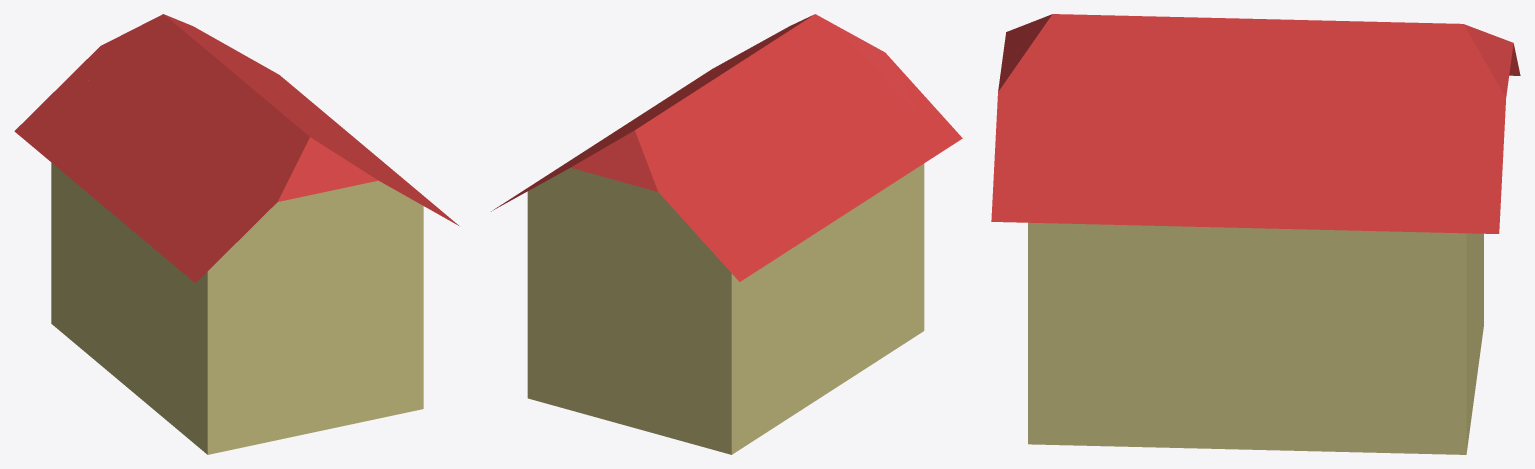
The picture shows the model from 3 angles, left to right: view 1: azimuth 30°, elevation 25°; view 2: azimuth 150°, elevation 25°; view 3: azimuth 270°, elevation 25°; orthographic projection. The views are drawn at different scales.
Bounding box in the file's own units: 11.61 × 15.23 × 11.64.
